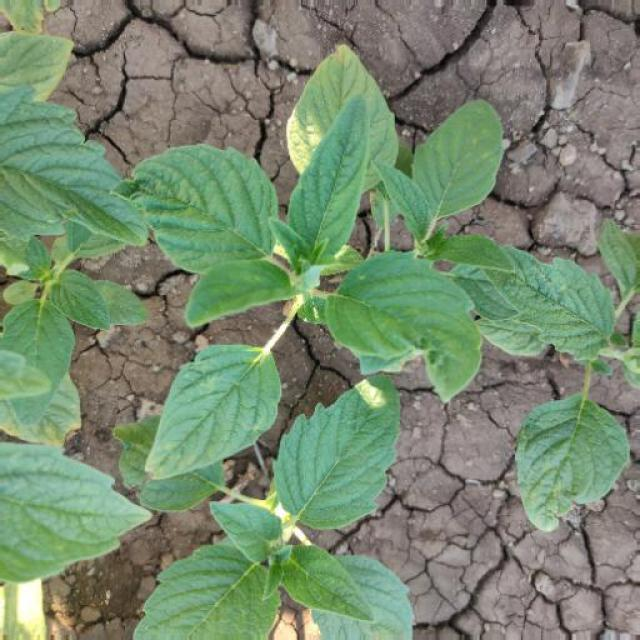crop: (129, 66, 526, 489), (132, 374, 424, 640), (1, 19, 134, 592), (468, 210, 638, 544)
